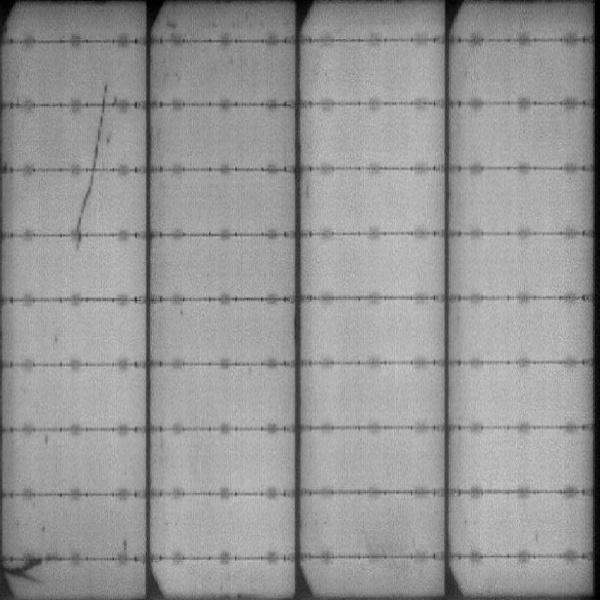scratch: (92, 80, 112, 169), (1, 551, 50, 587), (73, 172, 99, 231)
